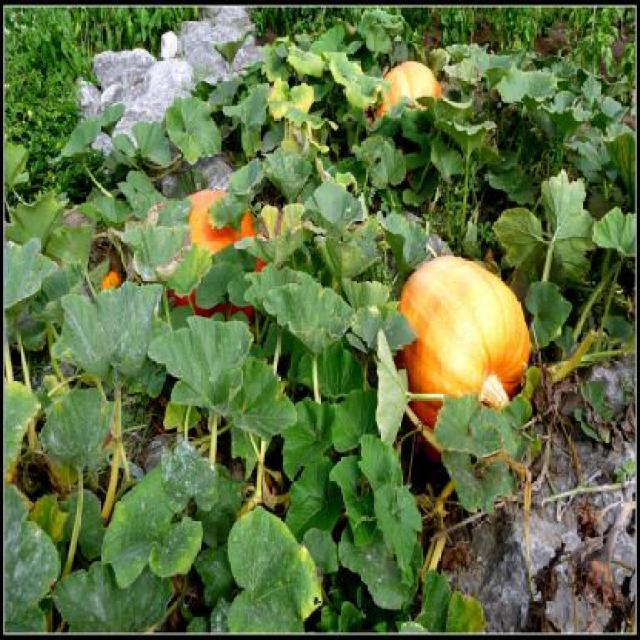Pumpkin: (392, 252, 532, 466), (159, 179, 267, 335), (369, 61, 442, 172)
